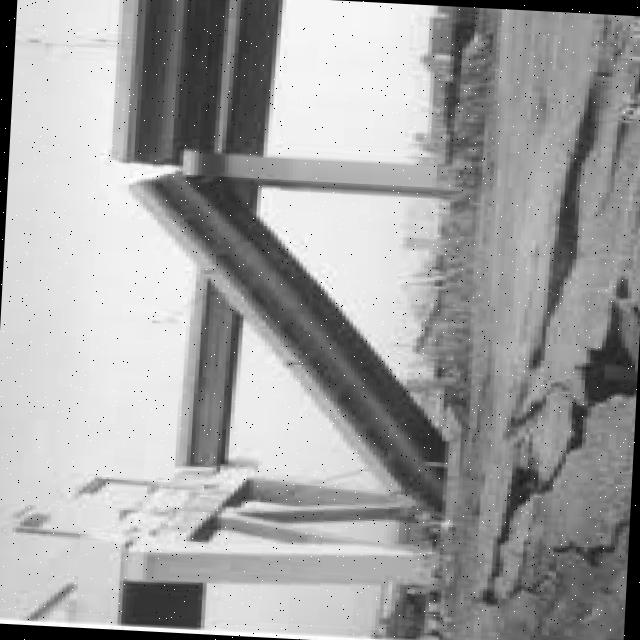bridge collapse: (0, 65, 601, 631)
